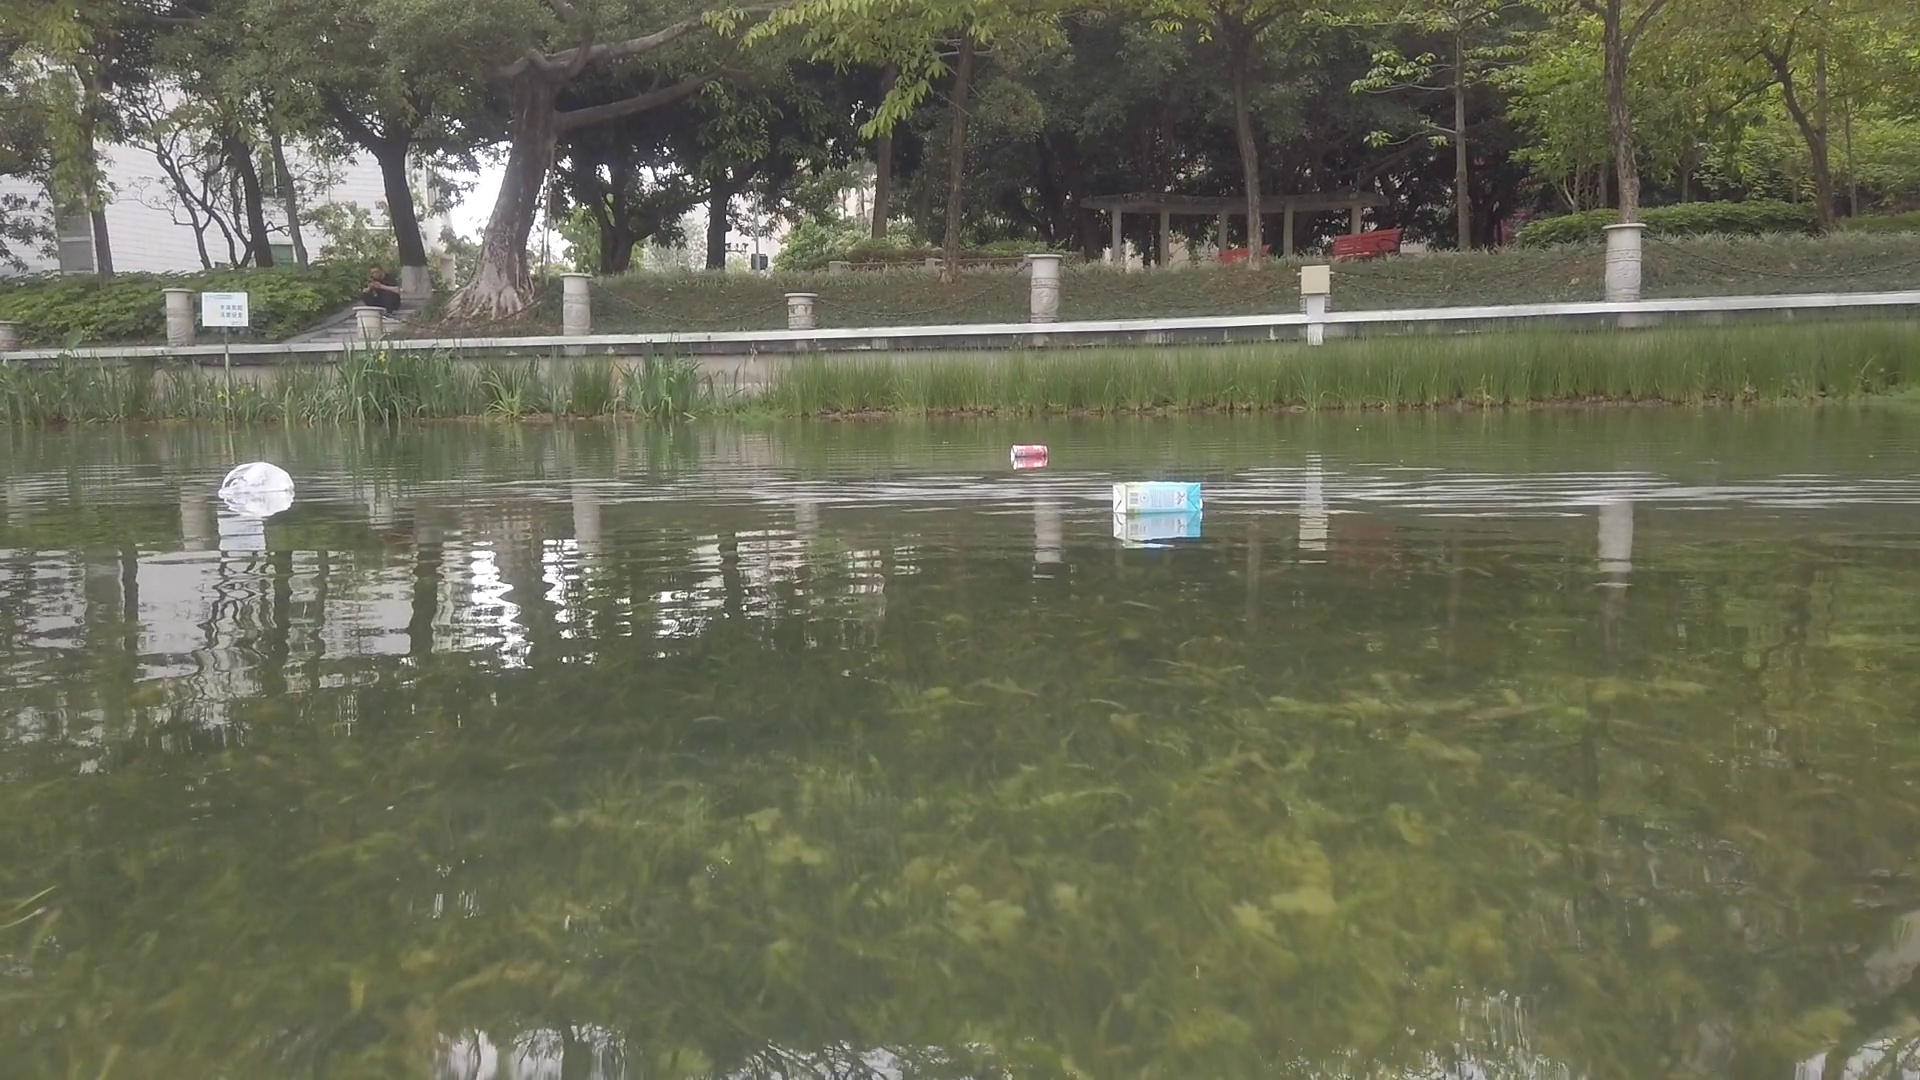bottle: (1007, 446, 1051, 462)
carton: (1113, 481, 1205, 517)
plastic: (218, 460, 299, 492)
